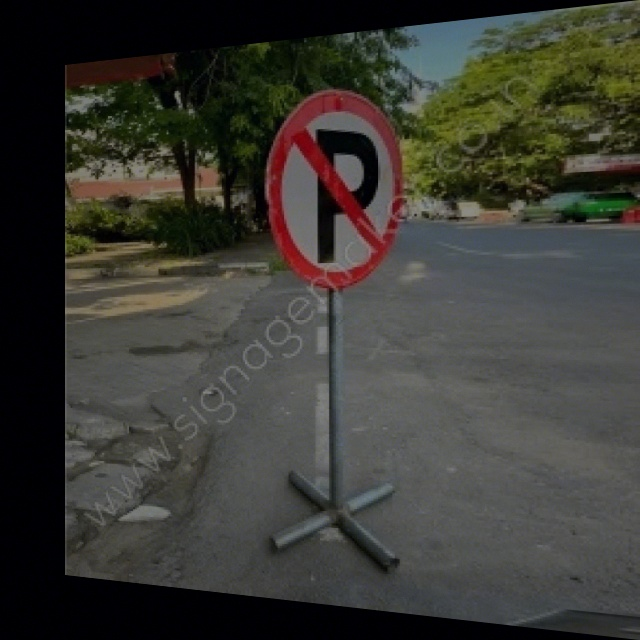No_Parking: (267, 81, 406, 290)
